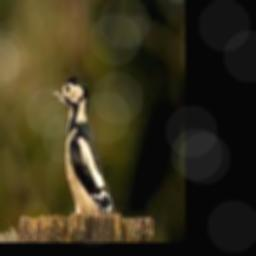Woodpecker: (51, 77, 115, 214)
